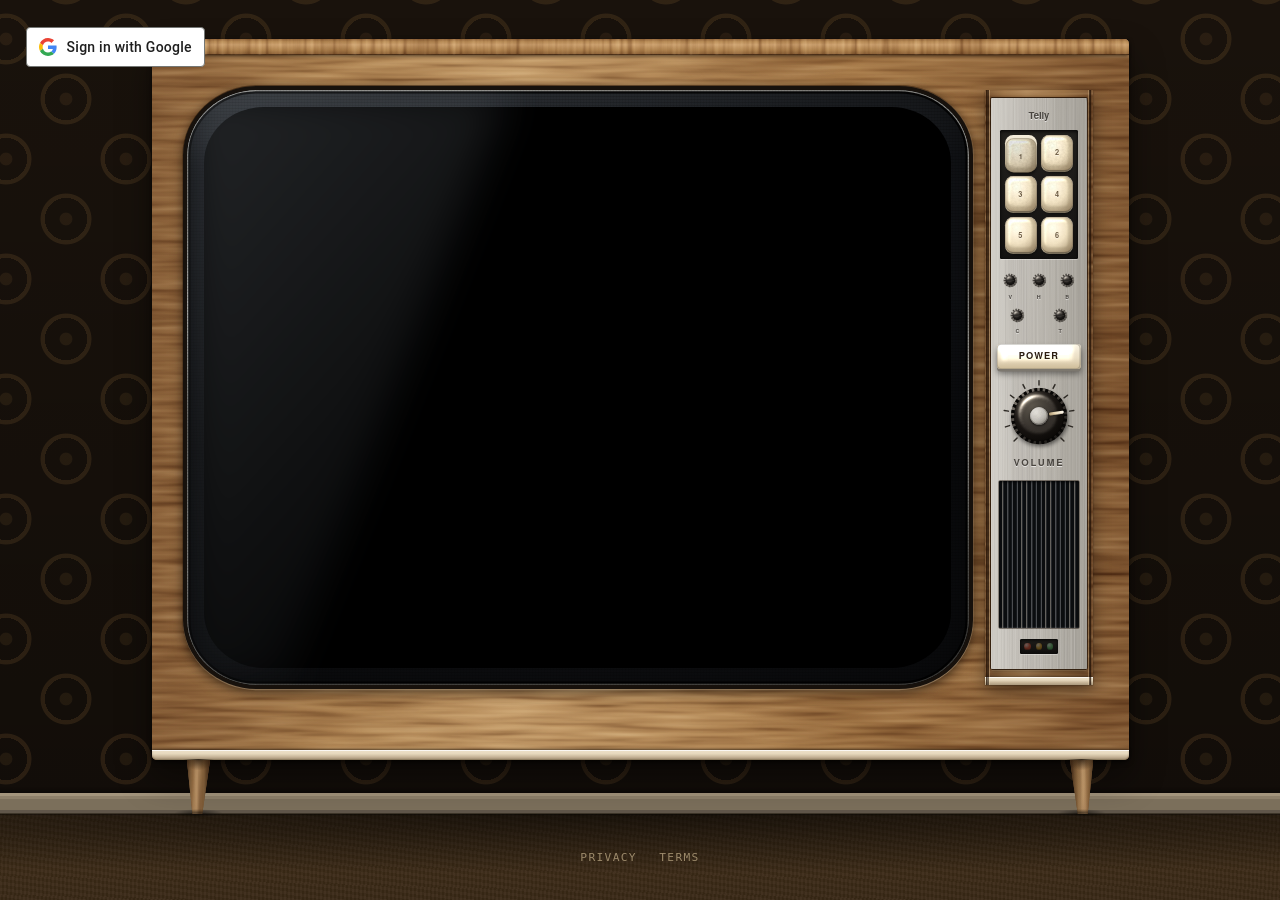
Scenario: Channel › the Google session › says what went wrong, and lets you try again
Click the button "Sign in with Google" at (115, 47), box top-left (26, 27), bottom-right (205, 67)
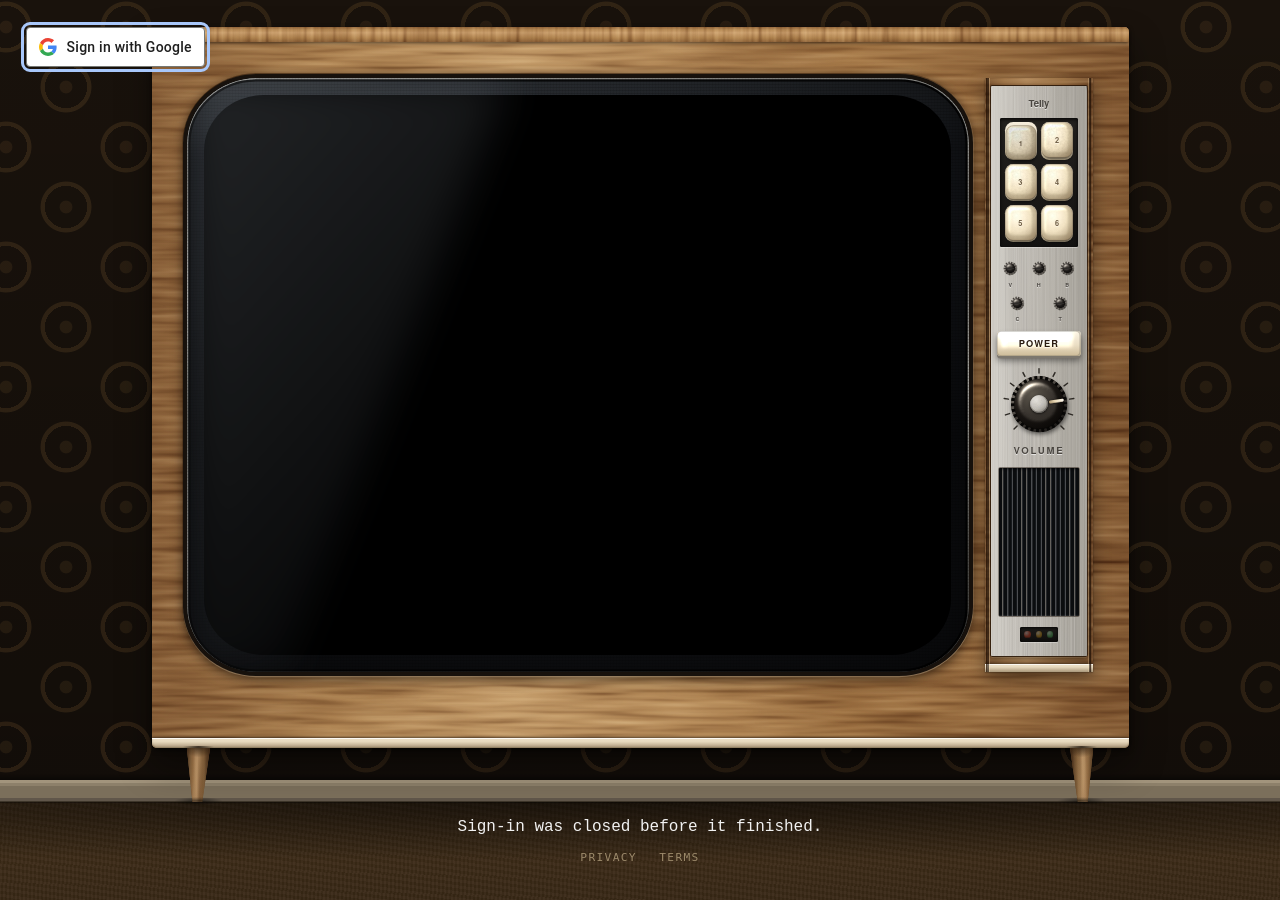
Expected: the message shows "closed before it finished", top-left (458, 818), bottom-right (822, 836)
